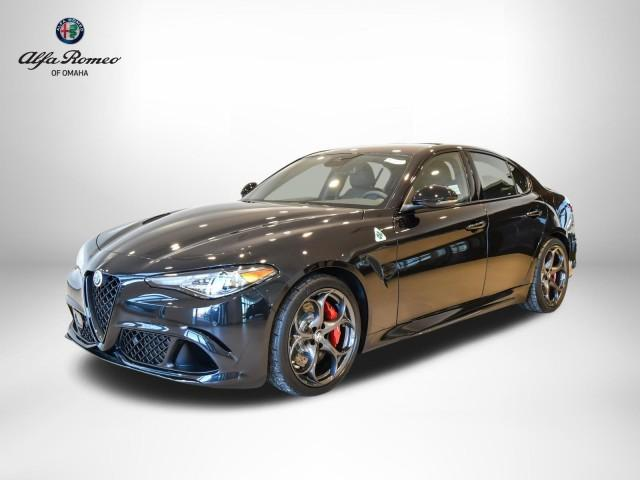alpha-romeo: (62, 142, 578, 400)
